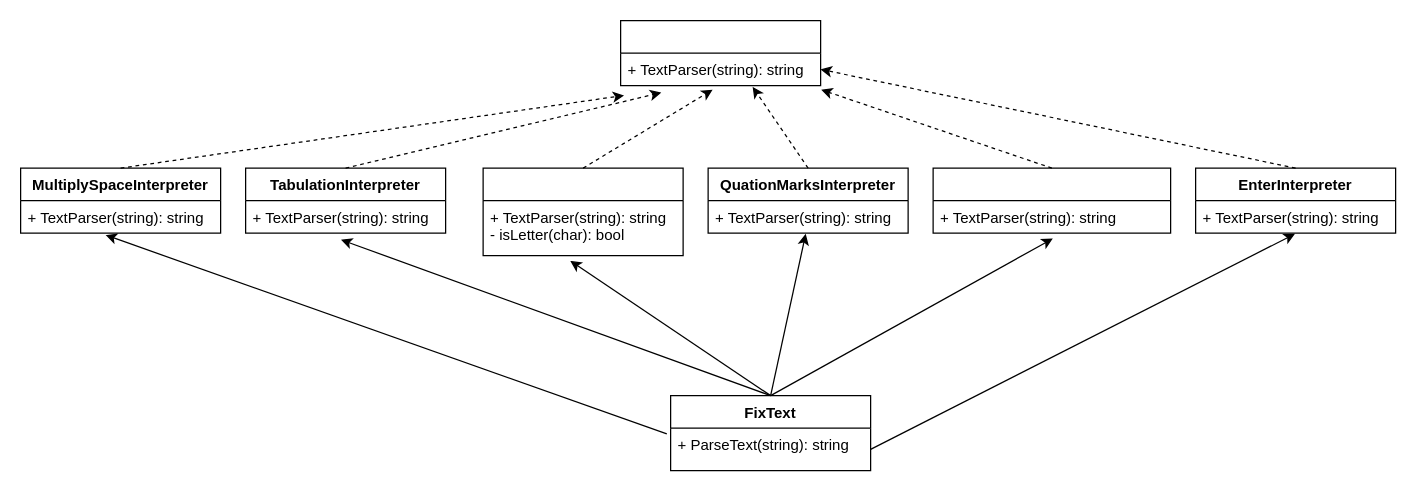
Some shapes in this 1416 by 491 pixel diagram are drawn without their labels. Each missing label, with the box of its shape:
DashInterpreter: (482, 167, 683, 256)
Interpreter: (619, 19, 821, 86)
SpaceBeforeCommaInterpreter: (932, 167, 1171, 233)
